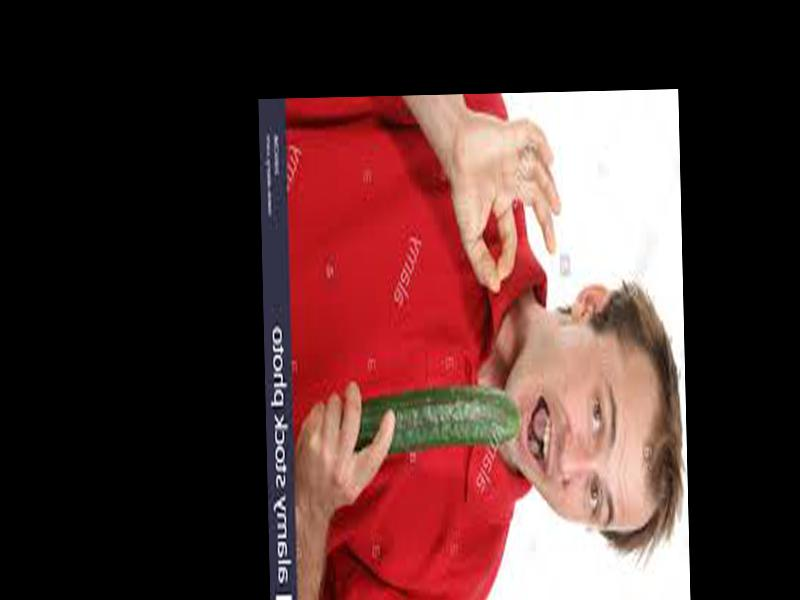Cucumber: (356, 393, 519, 447)
